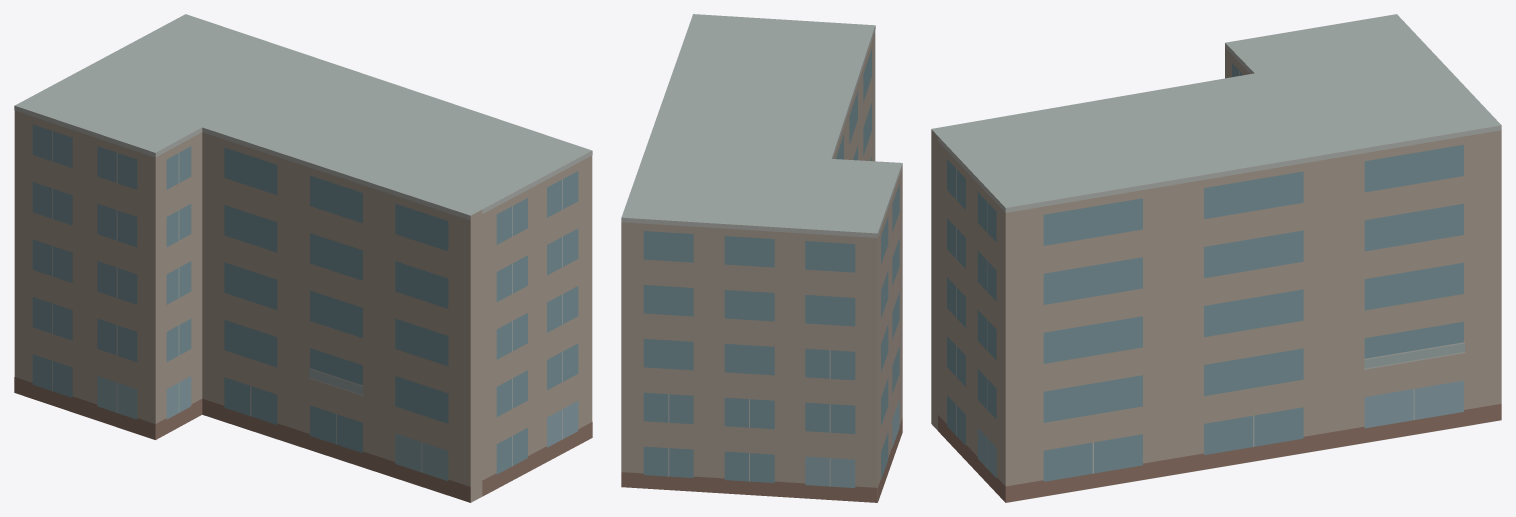
File: survey-upis-32996400.glb
3 views of the same model, side by side, from view 1: azimuth 30°, elevation 25°; view 2: azimuth 150°, elevation 25°; view 3: azimuth 270°, elevation 25° (orthographic). The views are drawn at different scales.
Visible parts, largest first — view 1: survey-upis-32996400.tmp; view 2: survey-upis-32996400.tmp; view 3: survey-upis-32996400.tmp.
Boxes of the visible parts, x1,y1,x2,y2 form: survey-upis-32996400.tmp: [14, 14, 592, 502]; survey-upis-32996400.tmp: [621, 14, 902, 502]; survey-upis-32996400.tmp: [931, 14, 1501, 502].
Bounding box in the file's own units: 20.62 × 14.6 × 25.61.
